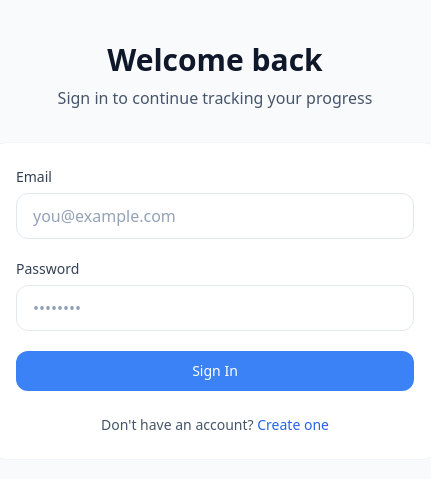
Login Page › handles login error
The image size is (431, 479).
Type "test@example.com" into the field labelled "Email" at [215, 216], box [16, 193, 414, 239]
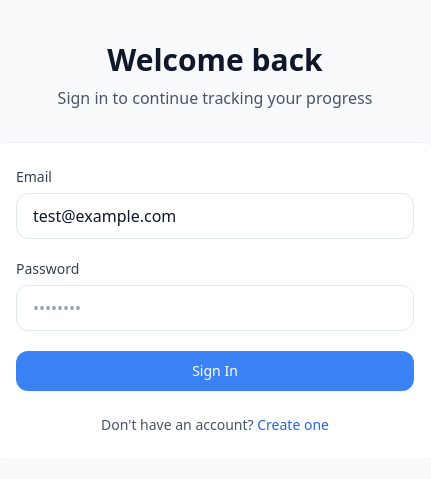
Type "wrongpassword" into the password field labelled "Password" at [215, 308], box [16, 285, 414, 331]
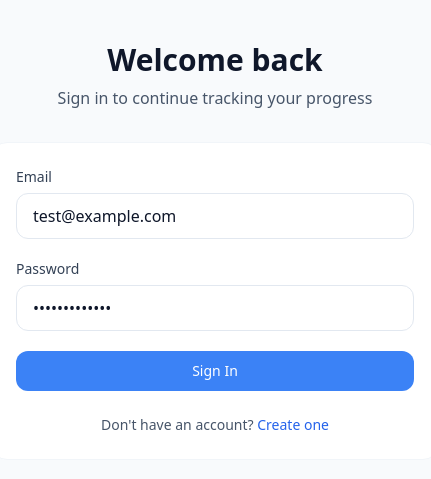
Click the button "Sign In" at [215, 371], box [16, 351, 414, 391]
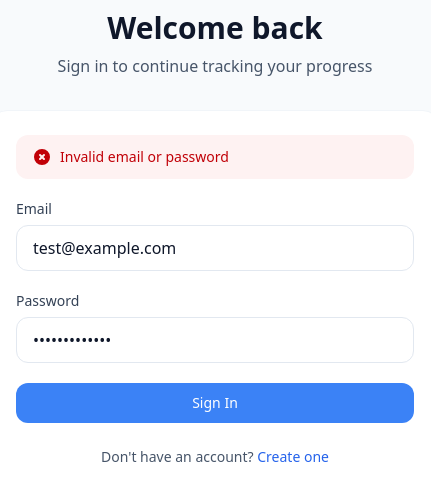
Result: the text "Invalid email or password" is shown at [16, 135, 414, 179]
